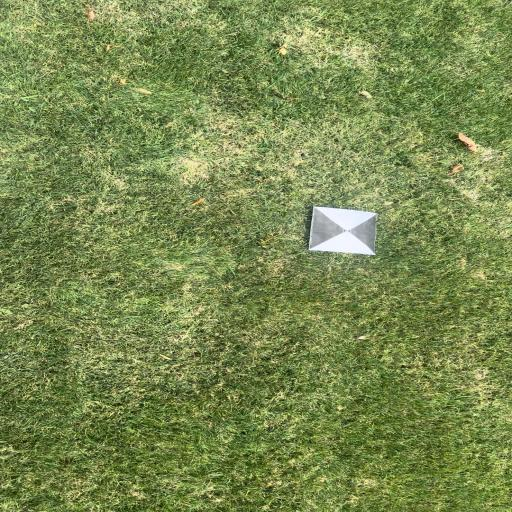target: (310, 206, 375, 255)
